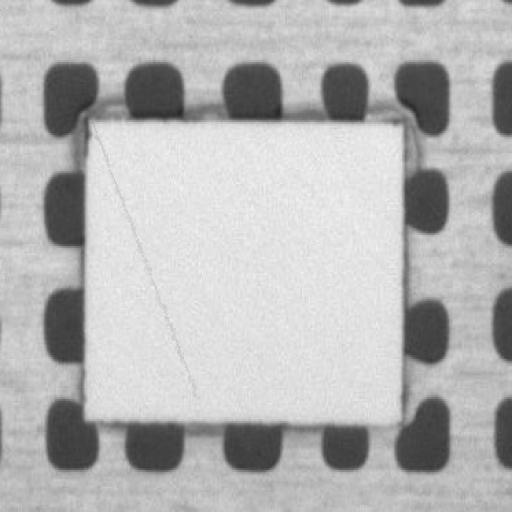DIE_CRACK: (118, 88, 260, 298)
